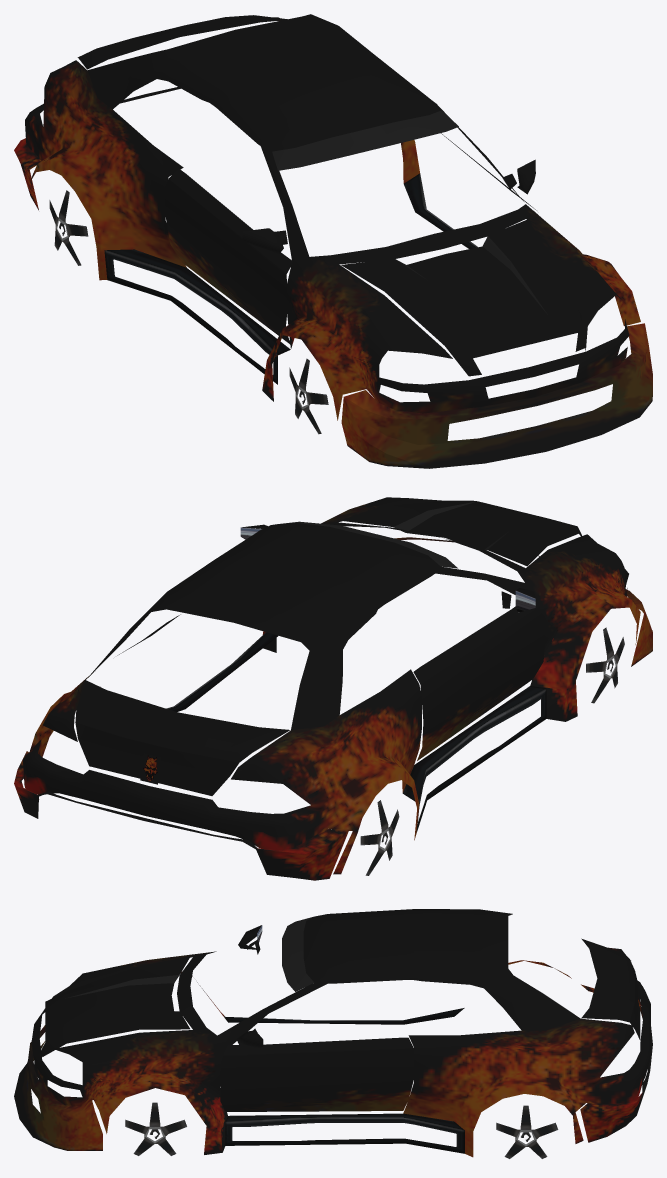
File: car-COMP_Car10.glb
3 renders of one model, top to bottom at view 1: azimuth 30°, elevation 25°; view 2: azimuth 150°, elevation 25°; view 3: azimuth 270°, elevation 25°, orthographic. The views are drawn at different scales.
Visible parts, largest first — view 1: COMP_Car10; view 2: COMP_Car10; view 3: COMP_Car10.
Boxes of the visible parts, left/top/right/bottom form: COMP_Car10: left=14, top=14, right=652, bottom=468; COMP_Car10: left=14, top=497, right=652, bottom=880; COMP_Car10: left=14, top=909, right=652, bottom=1158.
Bounding box in the file's own units: 2.05 × 1.25 × 4.34.
Materials: 19 (19 with a texture image).
